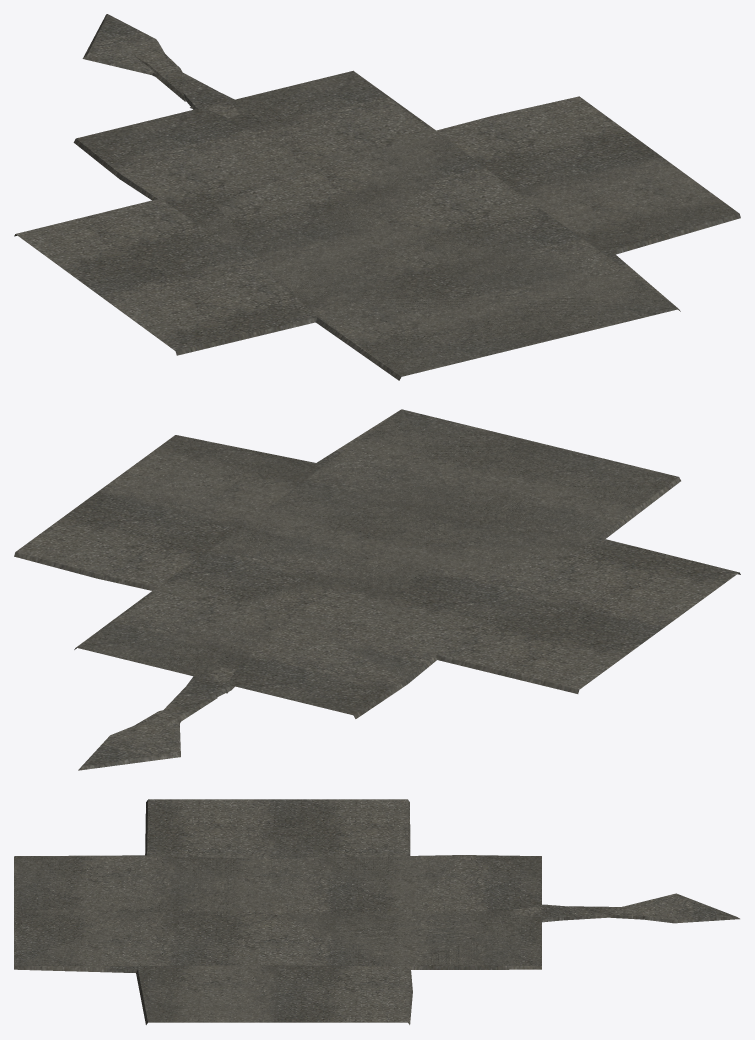
Rendered from bz_ASroad_01.fbx.
3 views of the same model, one above another, from view 1: azimuth 30°, elevation 25°; view 2: azimuth 150°, elevation 25°; view 3: azimuth 270°, elevation 25° (orthographic). The views are drawn at different scales.
Parts seen in each view (by area): view 1: bz__ASroad_X_01, bz__ASroad_S_01, bz__ASroad_C_01, bz__ASroadD_01, bz__ASroadD_02, bz__ASroad_S_03; view 2: bz__ASroad_X_01, bz__ASroad_S_01, bz__ASroad_C_01, bz__ASroadD_01, bz__ASroad_S_03, bz__ASroadD_02, bz__ASroad_S_02; view 3: bz__ASroad_S_01, bz__ASroad_X_01, bz__ASroad_C_01, bz__ASroadD_01, bz__ASroad_S_03, bz__ASroadD_02, bz__ASroad_S_02.
Boxes of the visible parts, x1,y1,x2,y2 form: bz__ASroad_X_01: [14, 71, 738, 380]; bz__ASroad_S_01: [74, 71, 680, 376]; bz__ASroad_C_01: [217, 131, 740, 310]; bz__ASroadD_01: [82, 14, 234, 109]; bz__ASroadD_02: [131, 48, 240, 118]; bz__ASroad_S_03: [74, 71, 365, 153]; bz__ASroad_X_01: [14, 410, 740, 693]; bz__ASroad_S_01: [76, 409, 678, 718]; bz__ASroad_C_01: [96, 410, 565, 626]; bz__ASroadD_01: [78, 676, 234, 770]; bz__ASroad_S_03: [78, 638, 371, 718]; bz__ASroadD_02: [127, 667, 236, 737]; bz__ASroad_S_02: [74, 589, 407, 677]; bz__ASroad_S_01: [14, 855, 541, 966]; bz__ASroad_X_01: [14, 799, 541, 1024]; bz__ASroad_C_01: [14, 859, 408, 1024]; bz__ASroadD_01: [542, 893, 739, 923]; bz__ASroad_S_03: [520, 856, 541, 965]; bz__ASroadD_02: [513, 905, 661, 919]; bz__ASroad_S_02: [402, 856, 460, 959].
Size of the model in its own units: 10 by 0.0688 by 13.77.
